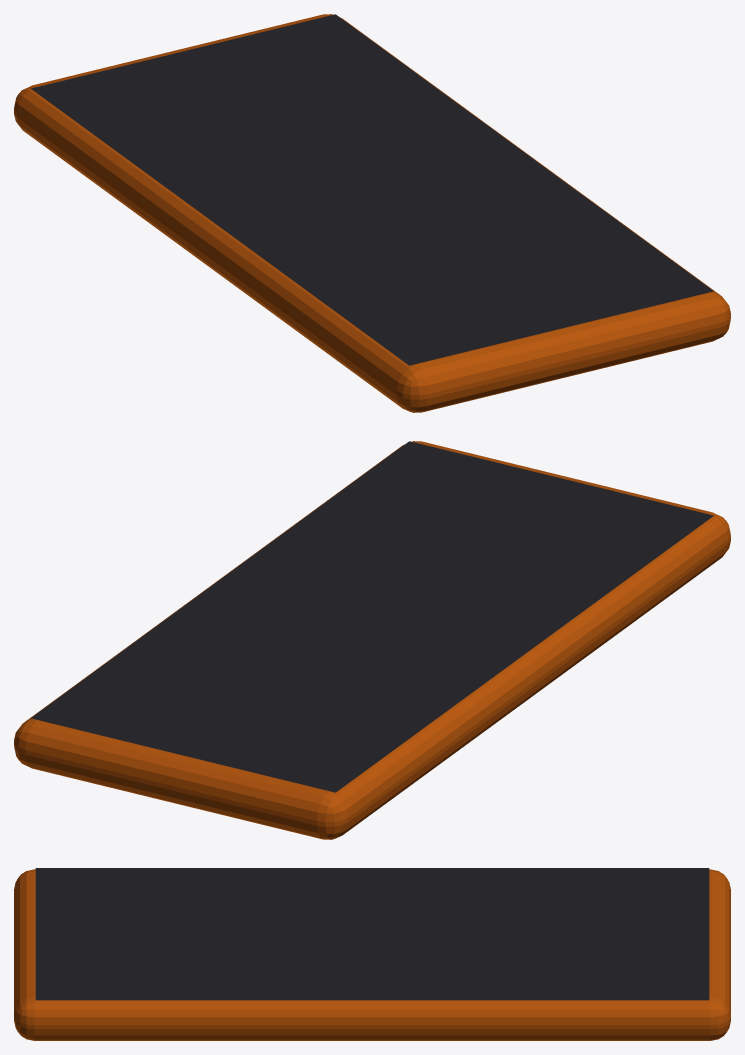
File: Phone_108.glb
3 views of the same model, one above another, from view 1: azimuth 30°, elevation 25°; view 2: azimuth 150°, elevation 25°; view 3: azimuth 270°, elevation 25° (orthographic). The views are drawn at different scales.
Parts seen in each view (by area): view 1: Phone_Screen, Phone_Body; view 2: Phone_Screen, Phone_Body; view 3: Phone_Screen, Phone_Body.
Part boxes in pixels (x1,y1,x2,y2): Phone_Screen: [31, 14, 713, 365]; Phone_Body: [14, 14, 730, 412]; Phone_Screen: [31, 441, 713, 792]; Phone_Body: [14, 441, 730, 839]; Phone_Screen: [35, 868, 709, 1000]; Phone_Body: [14, 869, 730, 1040].
Bounding box in the file's own units: 0.0745 × 0.01 × 0.1568.
